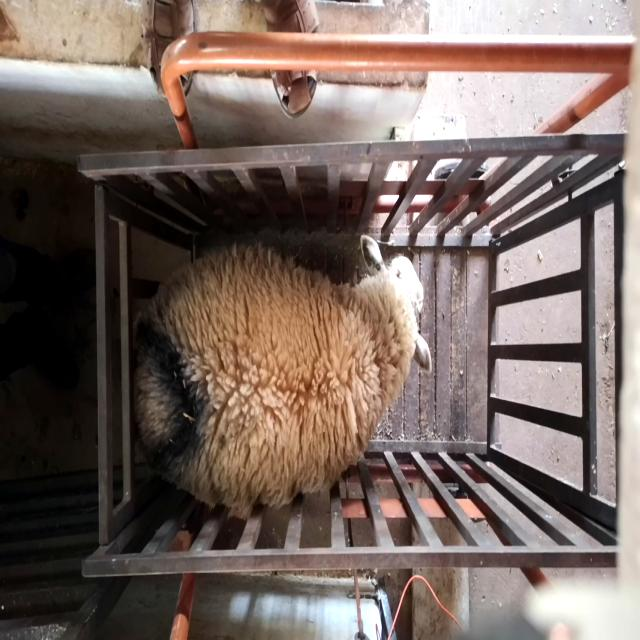sheep: (133, 234, 432, 519)
